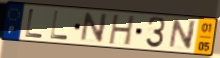3: (145, 16, 167, 50)
H: (107, 14, 137, 47)
L: (24, 7, 45, 39), (49, 10, 70, 41)
N: (78, 12, 110, 44), (167, 19, 198, 51)
